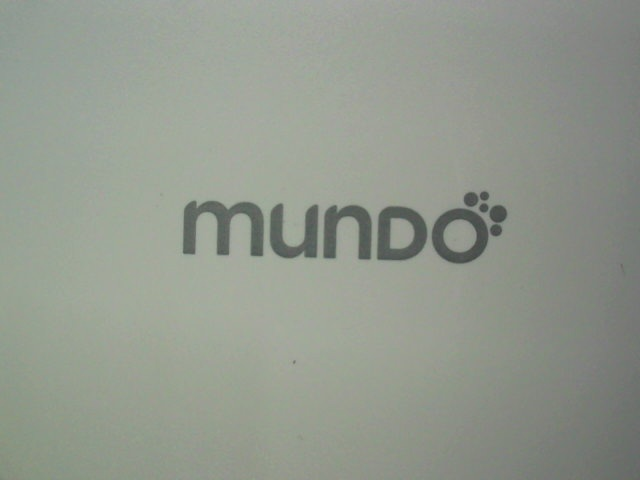BI_MUNDO: (167, 180, 506, 267)
